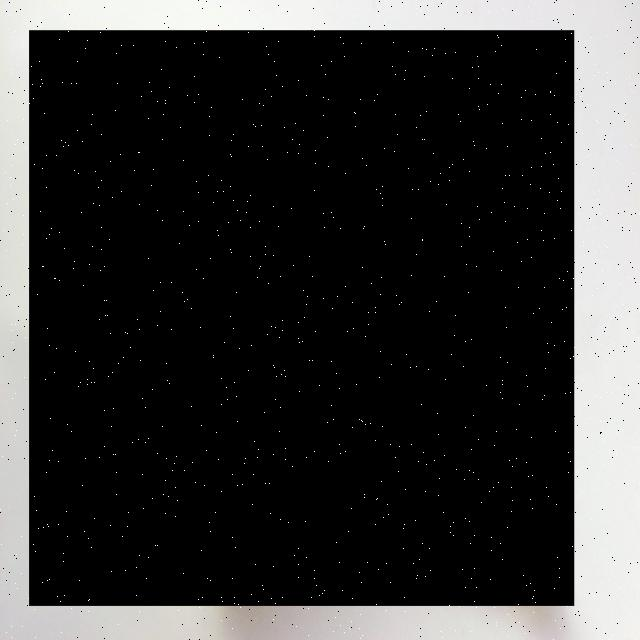Banana: (29, 31, 574, 607)
